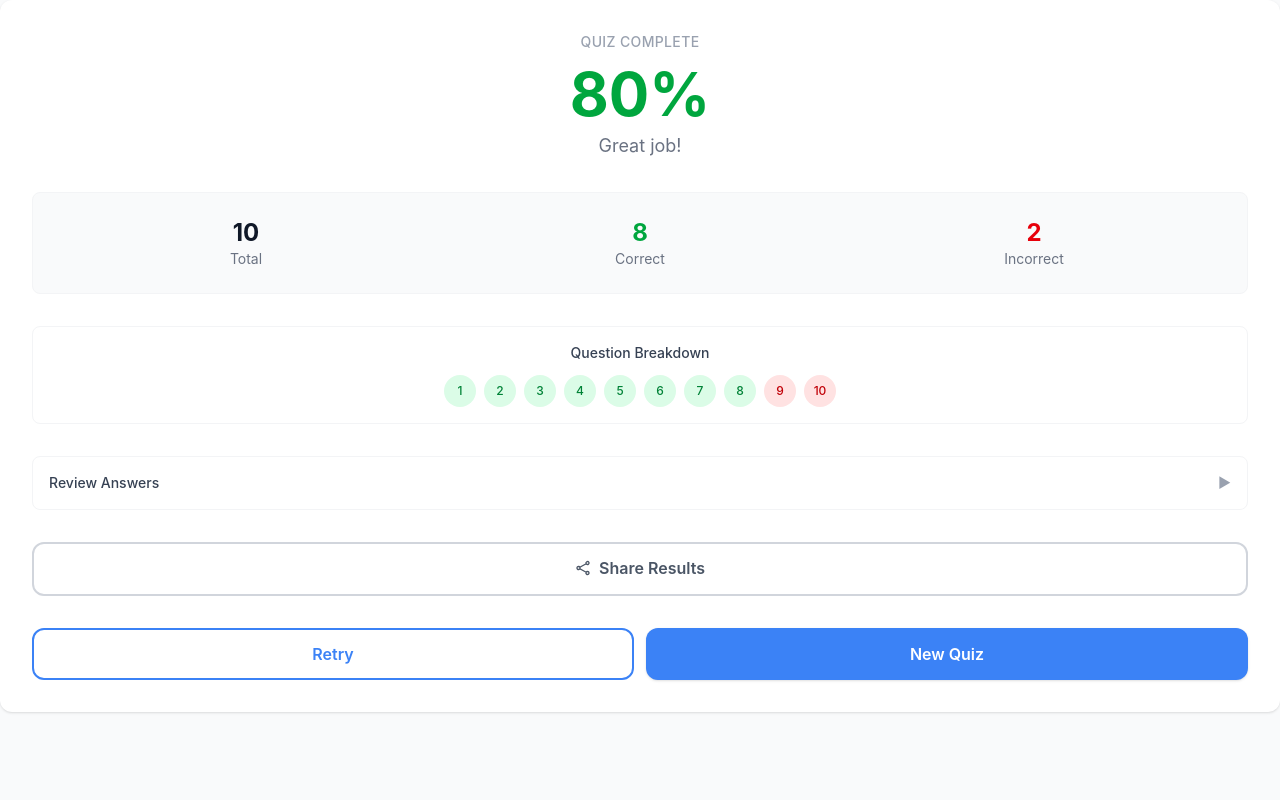
Test: QuizResults — rendering and grade display › handles share with clipboard
What coordinates should you click on to do the following:
click the button with aria-label "share quiz results"
I would click on:
 (640, 569)
Its box is x1=32 y1=542 x2=1248 y2=596.
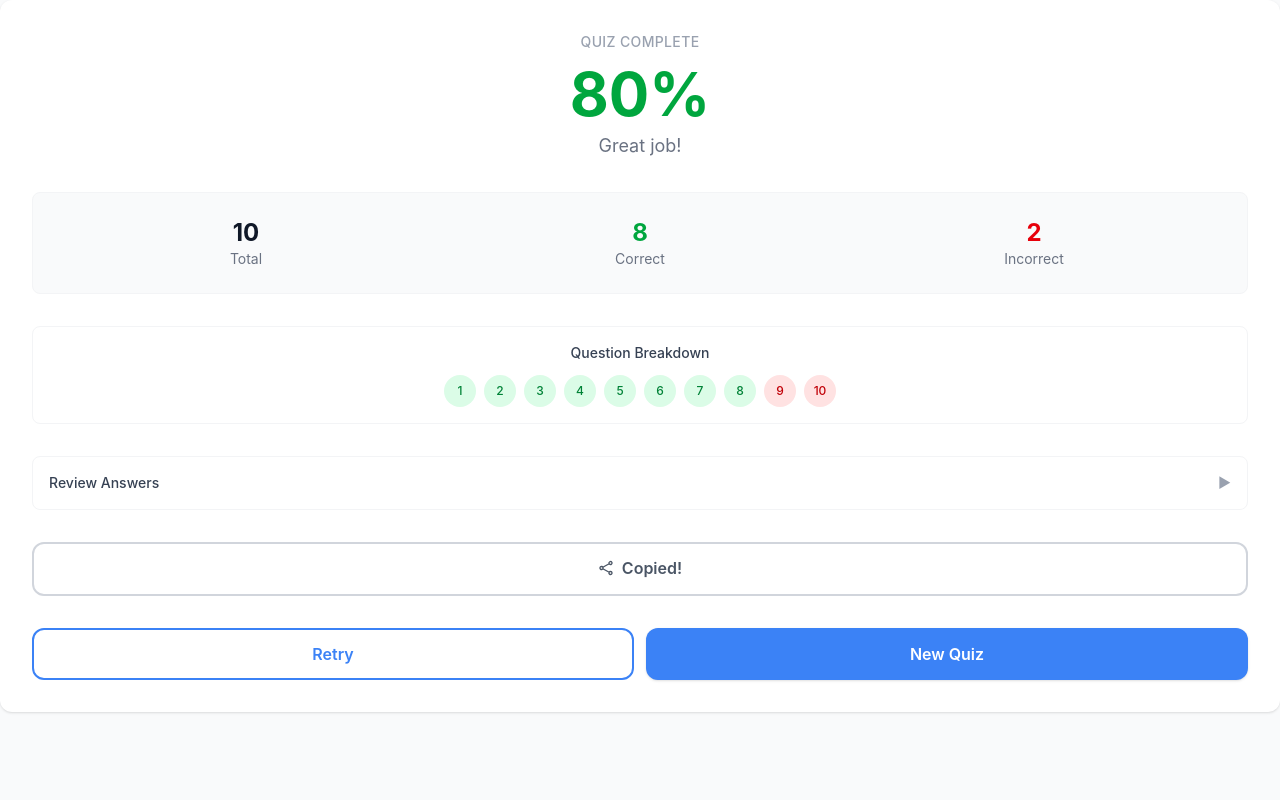
Result: the text "Copied!" is shown at x1=598 y1=556 x2=682 y2=580
